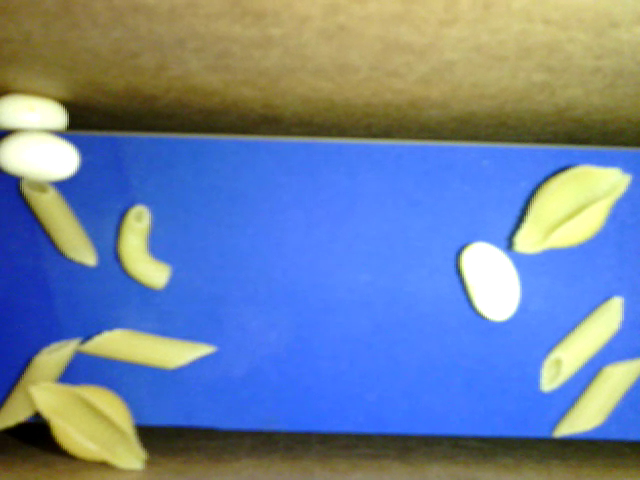elbow: (116, 204, 172, 289)
penne: (539, 295, 624, 393), (1, 336, 84, 430), (19, 174, 99, 267), (552, 357, 639, 437), (75, 327, 217, 371)
shell: (512, 163, 633, 252), (28, 380, 146, 470)
